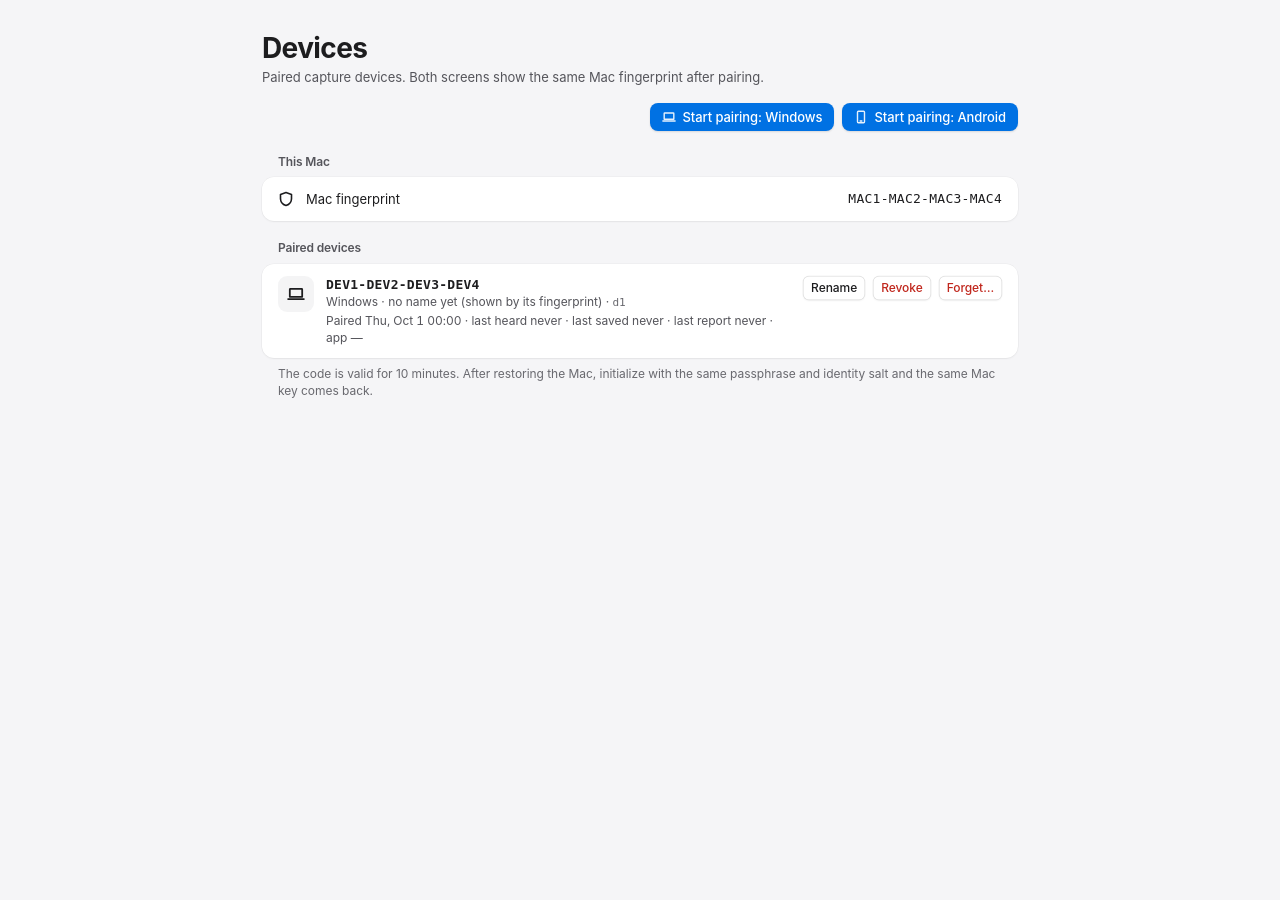
Scenario: forget a device › revoke says it keeps the archive
Step 1. Click the button "Revoke" → (902, 288), box x1=873 y1=276 x2=931 y2=300
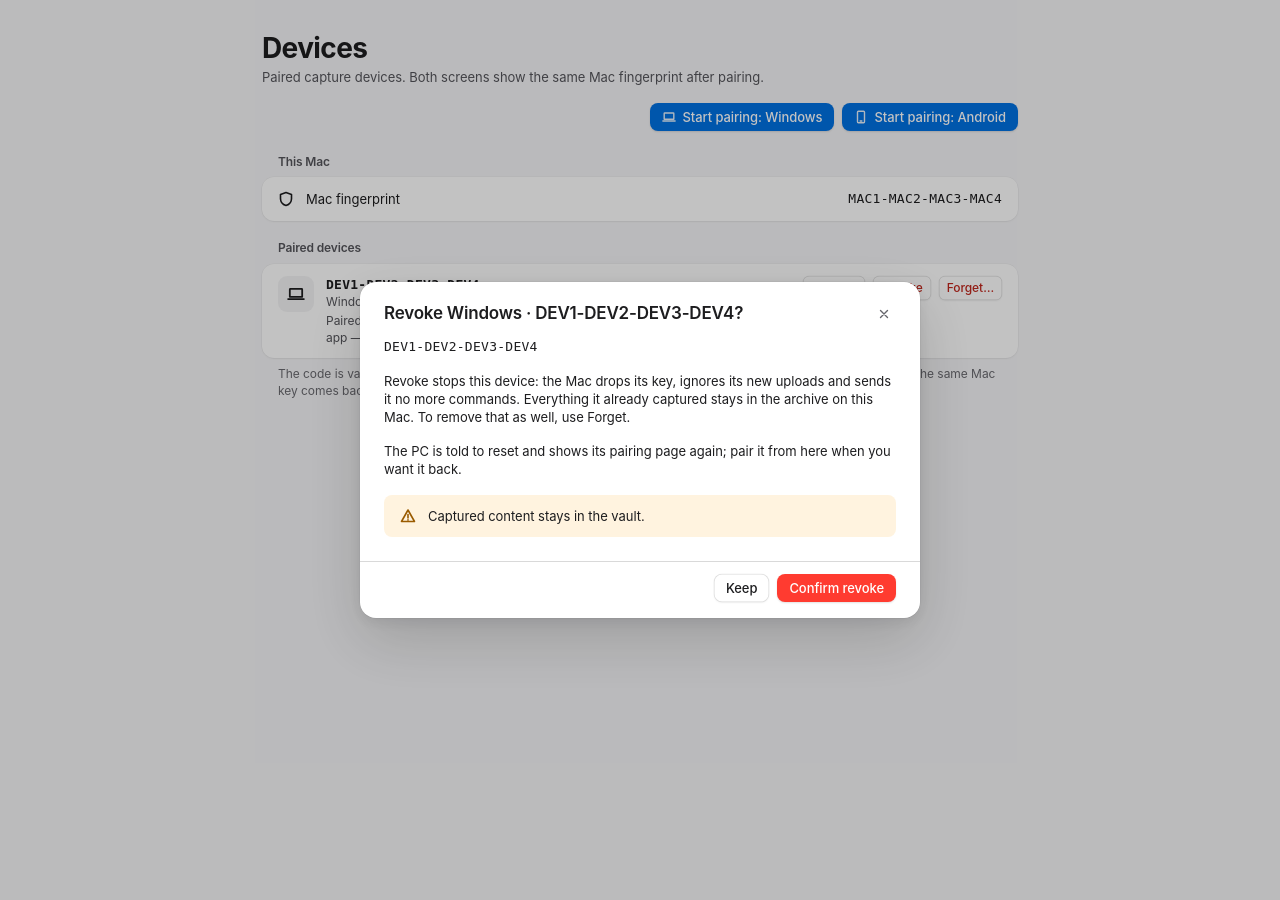
Expected: the dialog named "Confirm revoke" shows "Everything it already captured stays in the archive on this Mac.", x1=384 y1=373 x2=891 y2=425
